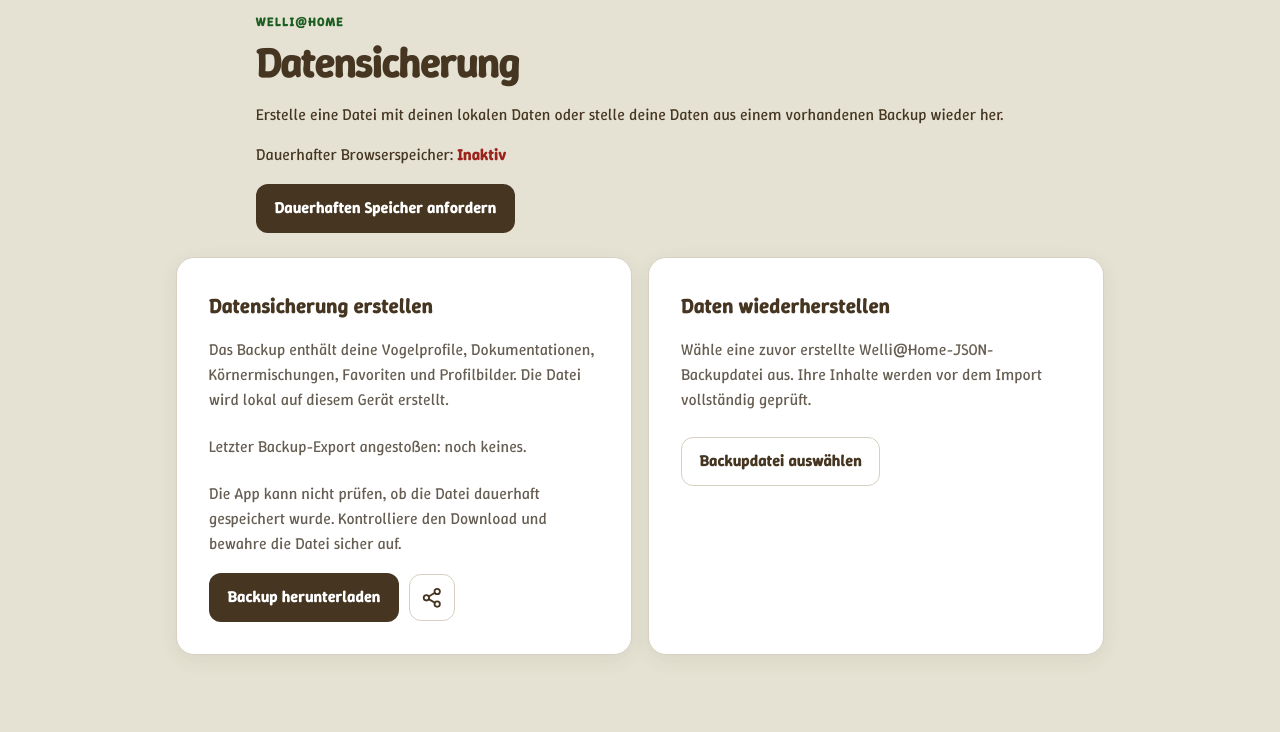
Test: BackupPage › teilt eine vorbereitete Backupdatei über die Web Share API und speichert das Datum
Expected: the text "Letzter Backup-Export angestoßen: noch keines." is shown, [209, 435, 526, 460]
Click the button named "Backup teilen" at [432, 597], box [409, 574, 455, 621]
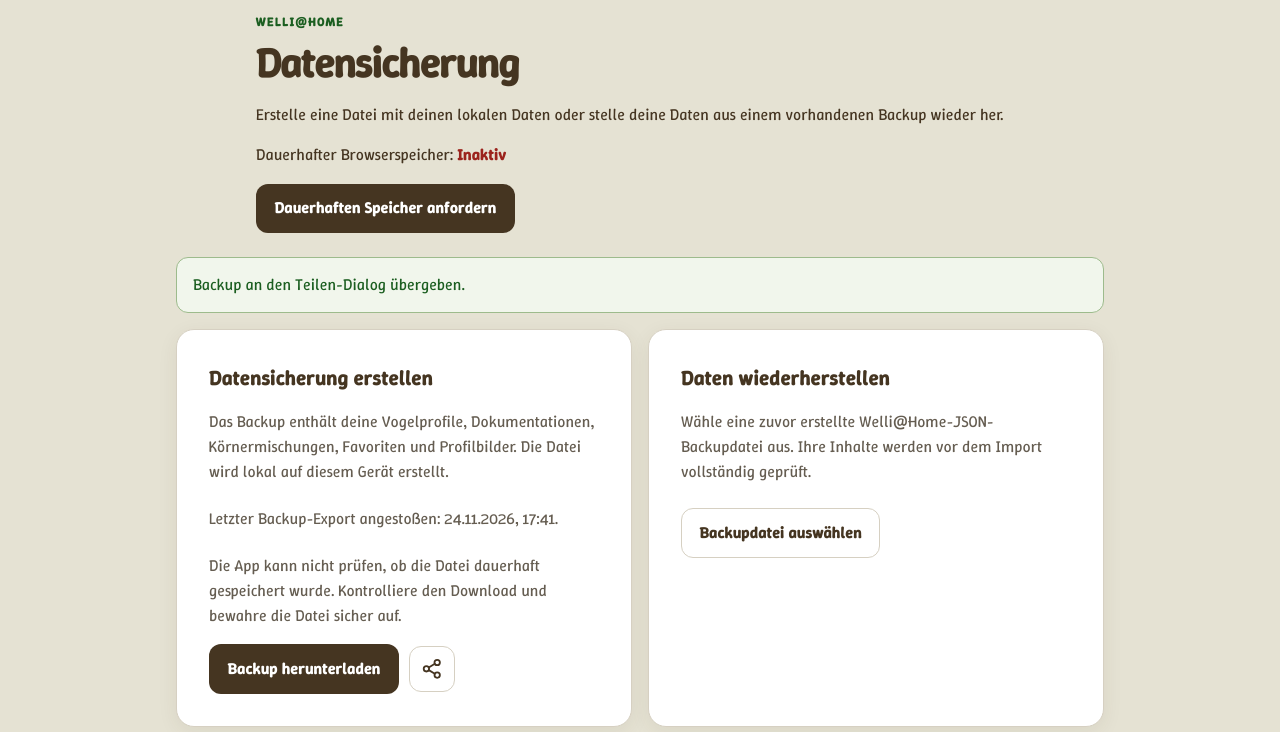
Expected: the text "Backup an den Teilen-Dialog übergeben." is shown, [176, 257, 1104, 313]
Expected: the text "Letzter Backup-Export angestoßen: noch keines." is gone
